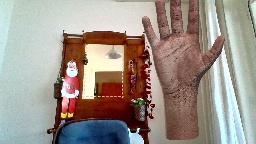Mano_aperta: (139, 0, 228, 96)
